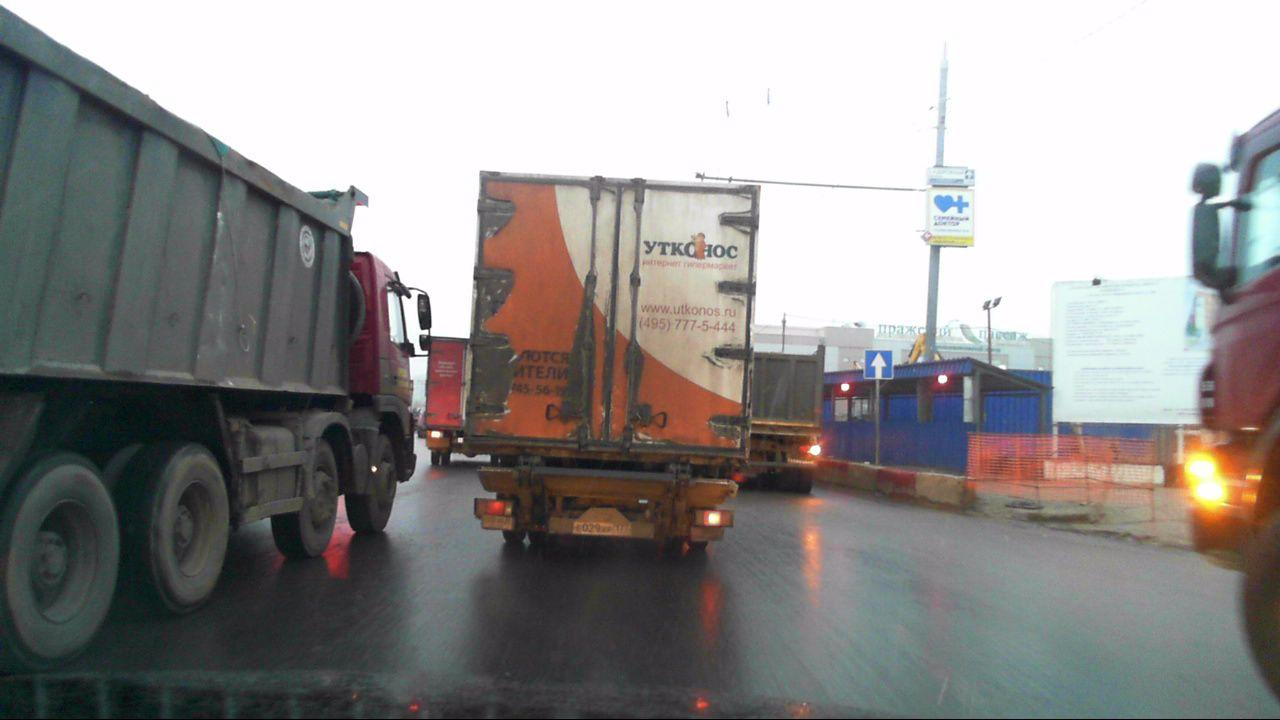5_5: (865, 350, 892, 378)
